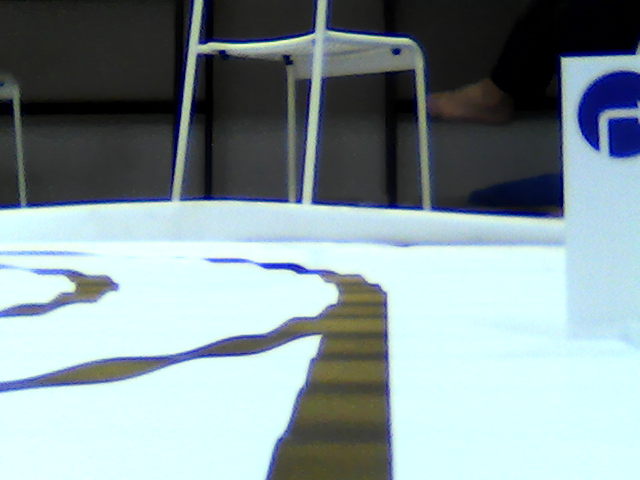Right: (576, 67, 639, 161)
